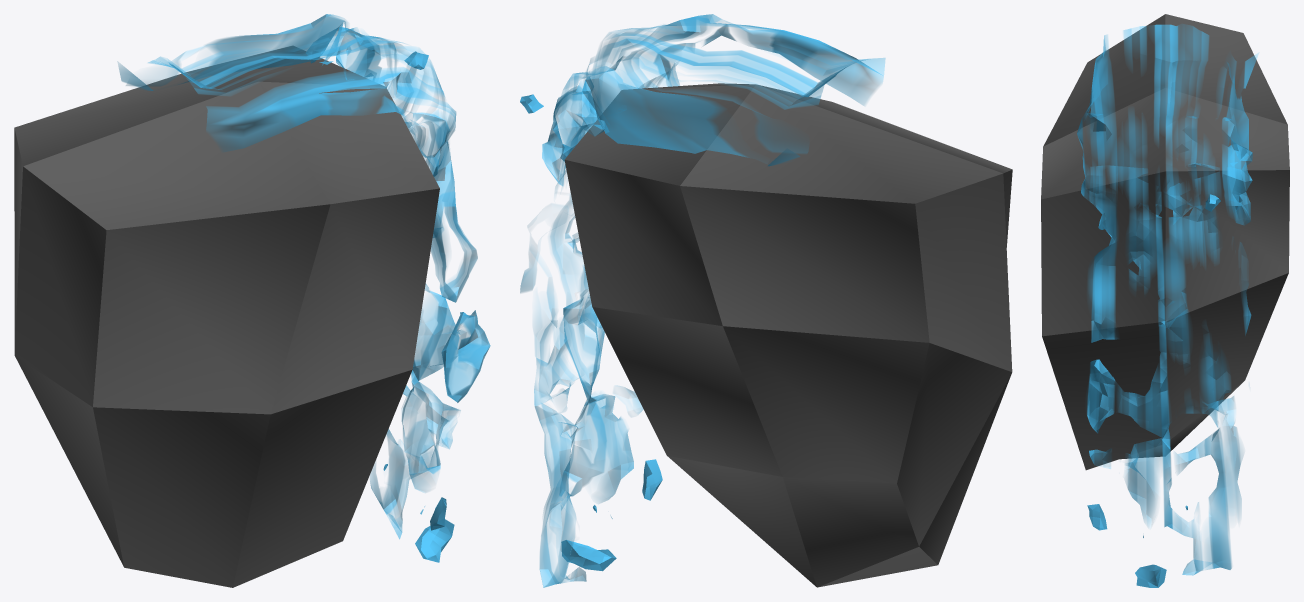
File: waterfalltest_v3.gltf
3 views of the same model, side by side, from view 1: azimuth 30°, elevation 25°; view 2: azimuth 150°, elevation 25°; view 3: azimuth 270°, elevation 25° (orthographic). The views are drawn at different scales.
Visible parts, largest first — view 1: rock, waterfall; view 2: rock, waterfall; view 3: rock, waterfall.
Boxes of the visible parts, x1,y1,x2,y2 form: rock: (14,46,439,587); waterfall: (117,14,490,562); rock: (564,83,1012,587); waterfall: (520,14,885,587); rock: (1041,14,1289,470); waterfall: (1077,24,1258,587).
Bounding box in the file's own units: 1.94 × 2.3 × 1.13.
Materials: 2 (1 with a texture image).
